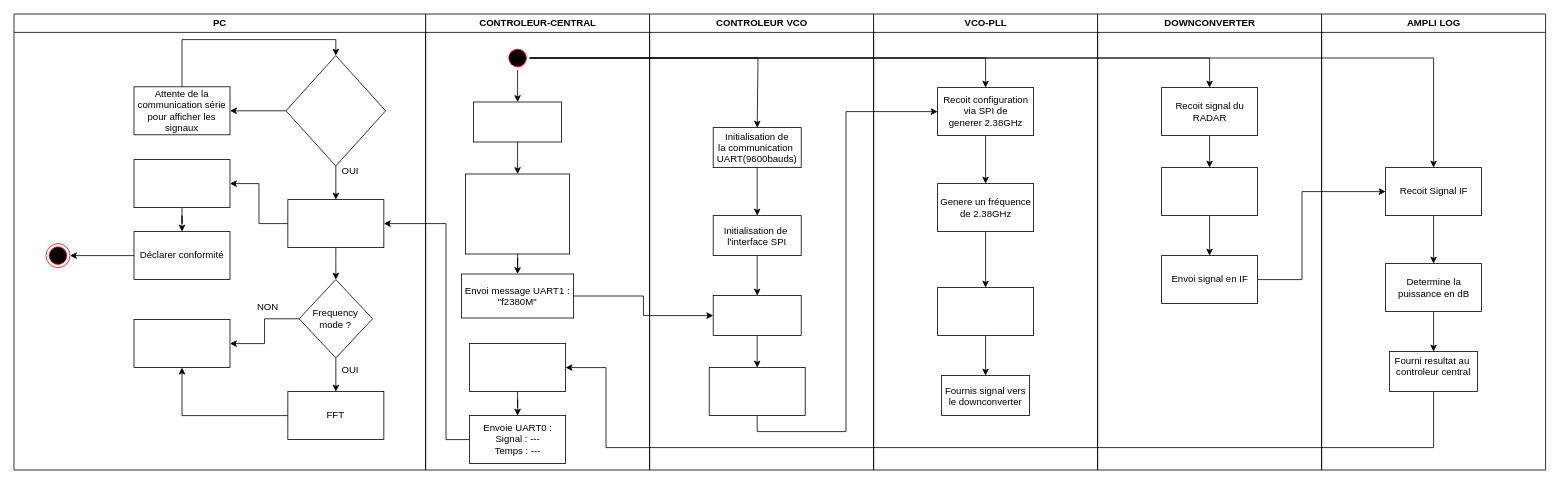
This 1560x484 diagram has some shape labels left out. The shapes that lost their labels are listed below. From the top down, each one's box as (x1, y1, x2, y2) in pixels, then its label:
(285, 55, 386, 166): Communication Série ouverte ?
(473, 101, 562, 142): Iitialisation des pins de lecture
(133, 159, 230, 208): Determiner La puissance, Ouverture Antenne, Porté RADAR, umminité
(1161, 167, 1258, 216): Tranpose sous Frequence Intermediare
(287, 199, 384, 248): Recevoir data
(465, 173, 570, 254): Initialisation de la communication UART0(115200bauds) UART1(9600bauds)
(712, 295, 801, 336): Reception du message "f2380M"
(937, 287, 1034, 336): Verouille la phase d'oscillation
(133, 319, 230, 368): Afficher signal
(469, 343, 566, 392): Recois donné de l'AD8317
(708, 367, 805, 416): Configurer l'ADF4351 pour generer 2.38GHz
